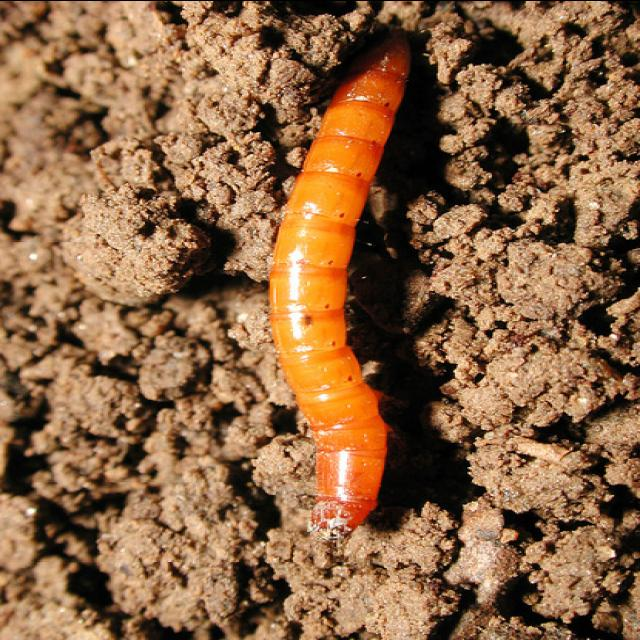wireworm: (250, 28, 430, 542)
